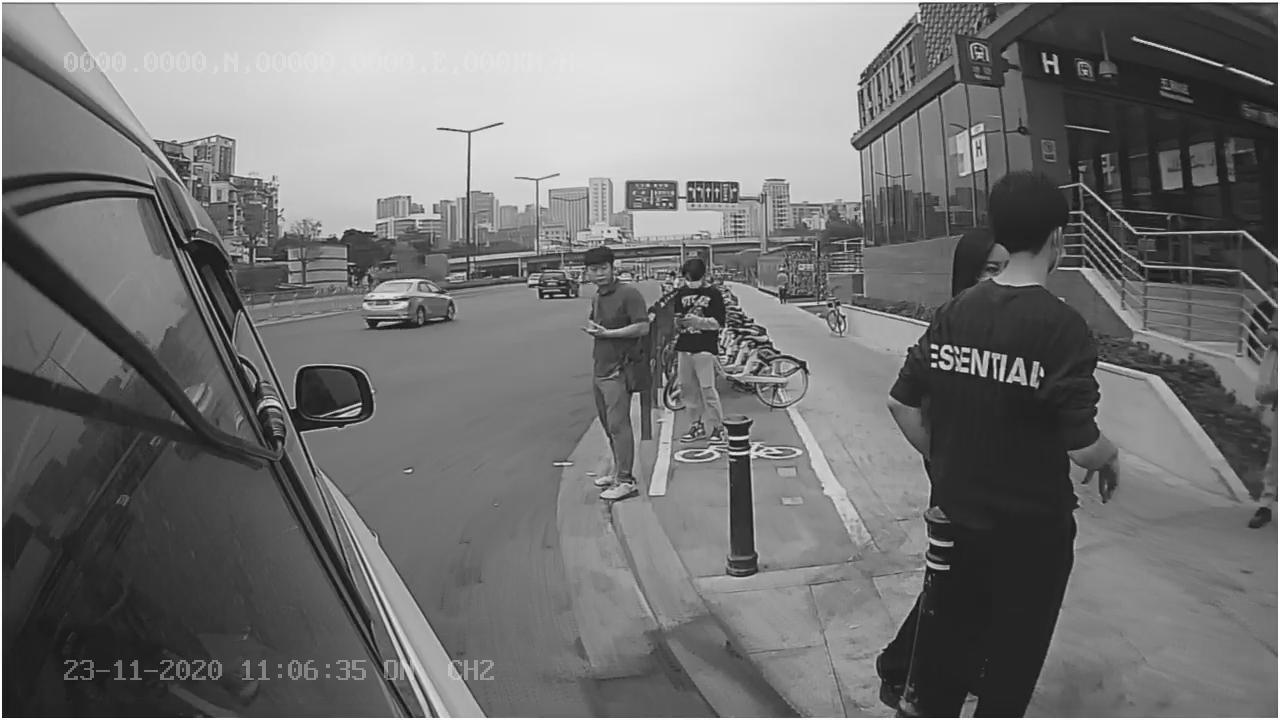person: (567, 246, 664, 504)
